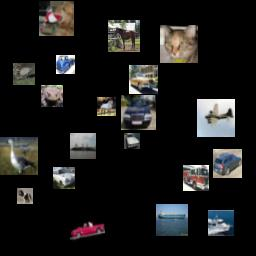airplane: (197, 99, 235, 137)
automobile: (121, 95, 156, 130), (70, 210, 105, 245), (213, 149, 242, 178), (129, 65, 158, 94), (53, 167, 75, 189), (124, 133, 140, 149)
bird: (0, 137, 38, 175), (13, 63, 35, 85)
cat: (160, 25, 198, 63)
dog: (39, 1, 74, 36), (17, 188, 33, 204)
frog: (41, 85, 63, 107)
ship: (156, 204, 188, 236), (208, 210, 234, 236), (70, 133, 96, 159)
truck: (183, 165, 209, 191), (56, 55, 75, 74)
